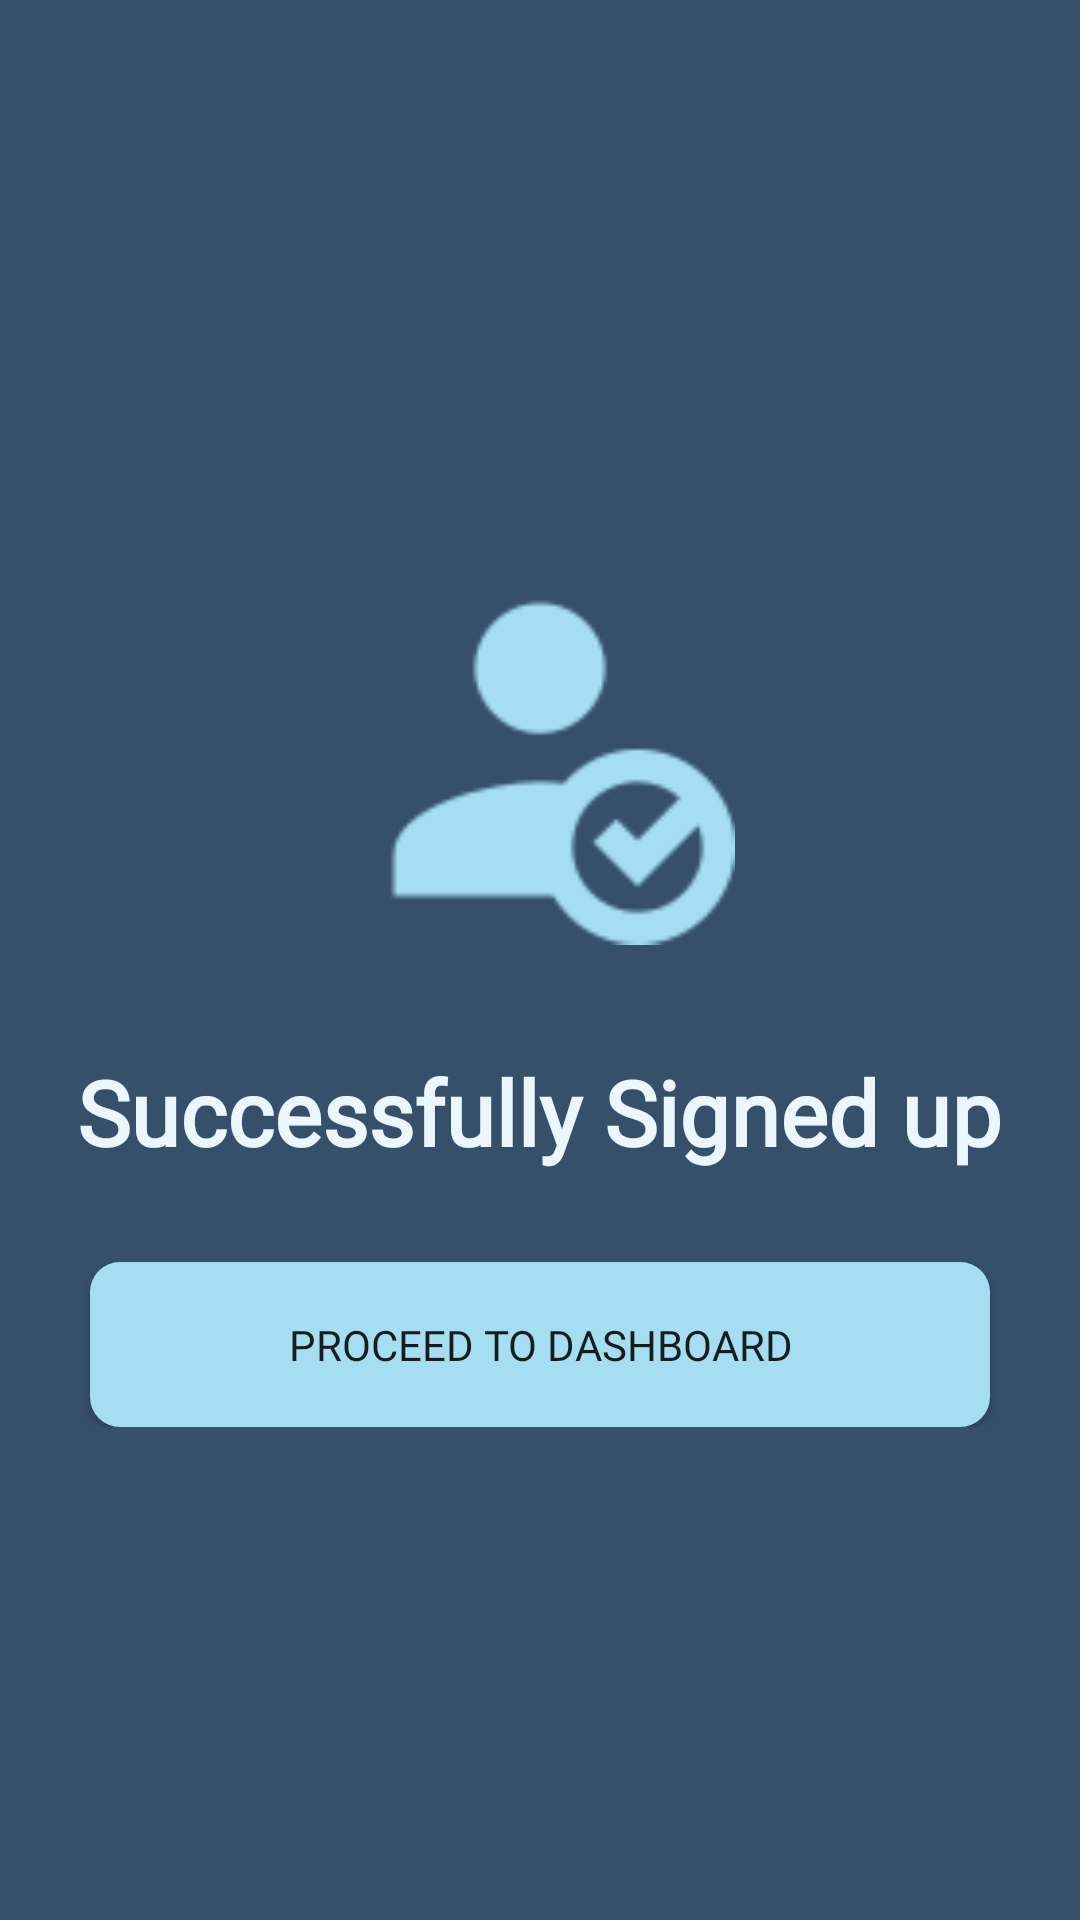

Icons on this 1080x1920 Android screen, each with the point to tap as [x,y]:
usercheck: [563,773]
